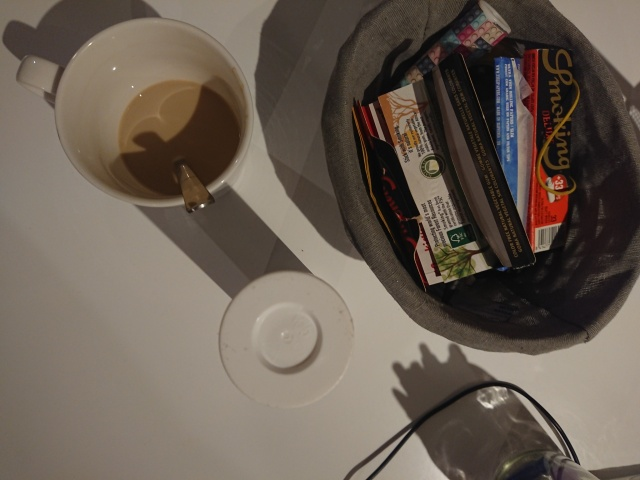Solana Pag Fine Sea Salt 250g: (216, 268, 357, 411)
